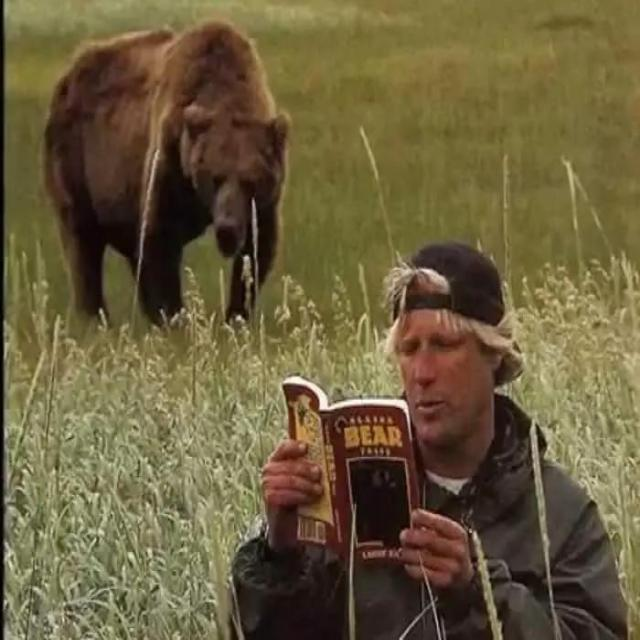Bear: (43, 19, 293, 333)
